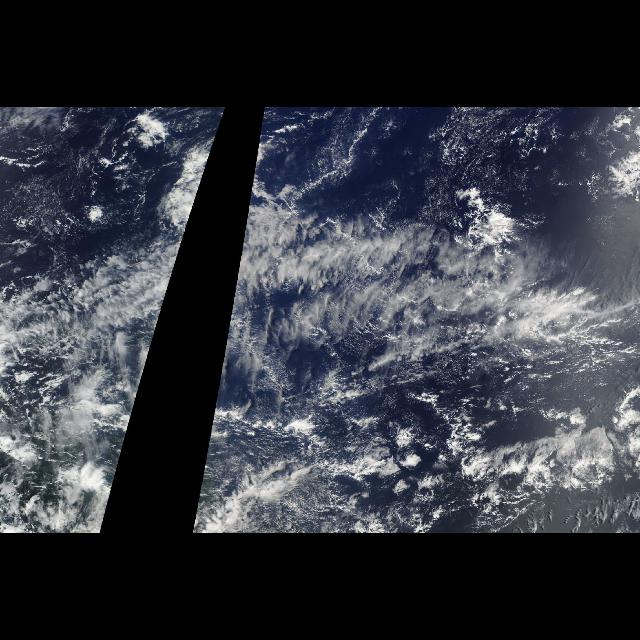Fish: (210, 178, 640, 428), (66, 178, 202, 428)
